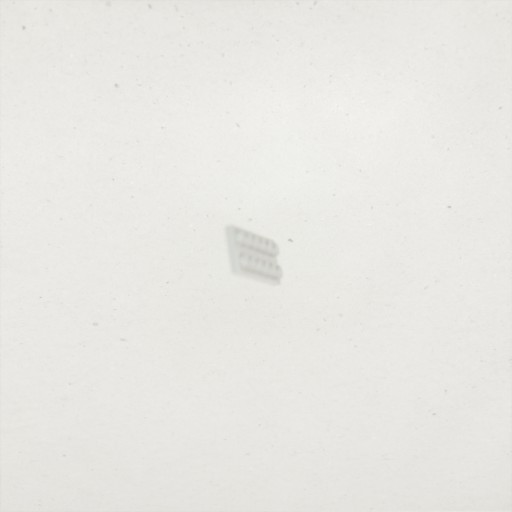lego: (224, 224, 283, 287)
